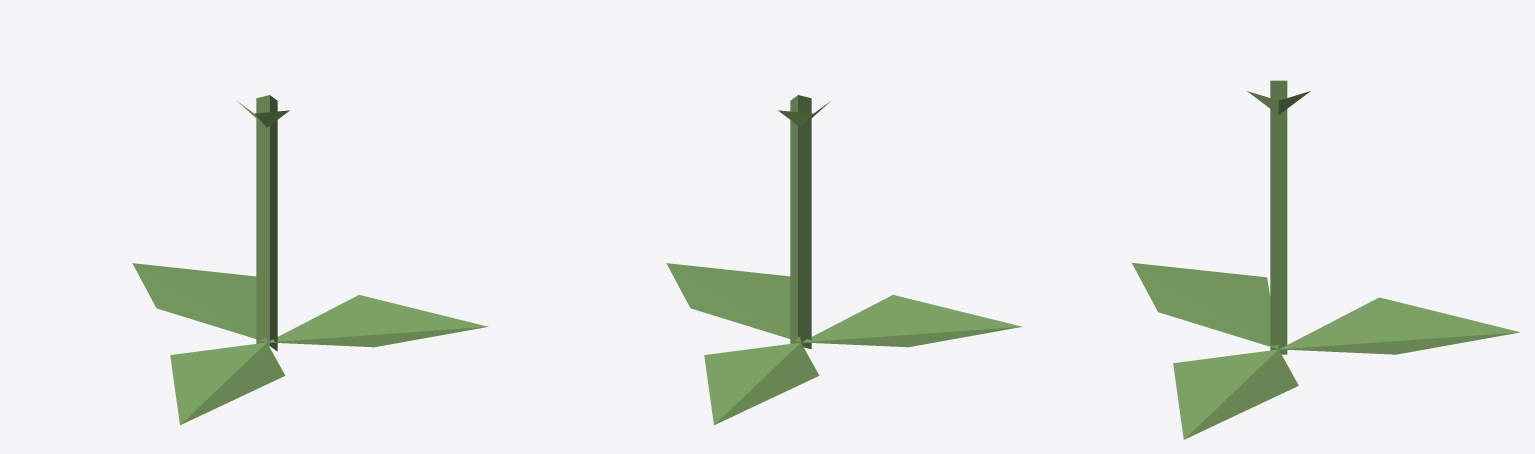
File: flower.glb
3 renders of one model, left to right at view 1: azimuth 30°, elevation 25°; view 2: azimuth 150°, elevation 25°; view 3: azimuth 270°, elevation 25°, orthographic. The views are drawn at different scales.
Parts seen in each view (by area): view 1: Leaf, Stem; view 2: Leaf, Stem; view 3: Leaf, Stem.
Part boxes in pixels (bbox=[...]): Leaf: bbox=[132, 263, 488, 425]; Stem: bbox=[237, 95, 289, 351]; Leaf: bbox=[666, 263, 1022, 425]; Stem: bbox=[778, 95, 830, 349]; Leaf: bbox=[1132, 263, 1519, 439]; Stem: bbox=[1247, 80, 1310, 354].
Size of the model in its own units: 0.8805 by 0.62 by 0.8994.
